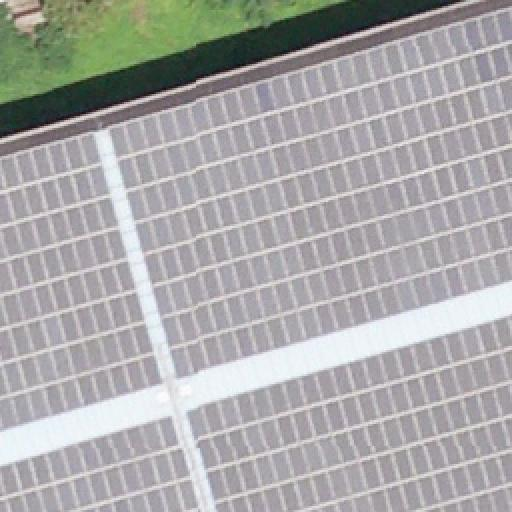solar-panel: (108, 10, 512, 378), (185, 313, 511, 511), (0, 134, 164, 434), (0, 416, 200, 512)
